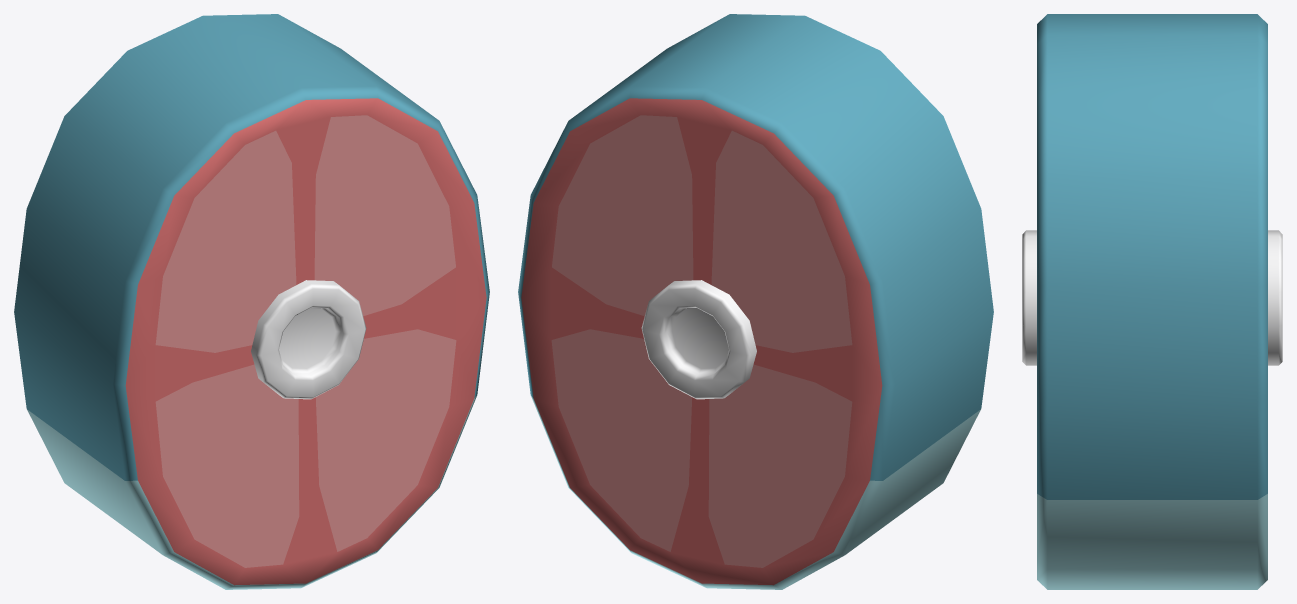
File: Sardine_2_Slice.fbx
The picture shows the model from 3 angles, left to right: view 1: azimuth 30°, elevation 25°; view 2: azimuth 150°, elevation 25°; view 3: azimuth 270°, elevation 25°; orthographic projection. The views are drawn at different scales.
Parts seen in each view (by area): view 1: Sardine_2_Slice; view 2: Sardine_2_Slice; view 3: Sardine_2_Slice.
Part boxes in pixels (x1,y1,x2,y2): Sardine_2_Slice: (14,14,489,589); Sardine_2_Slice: (518,14,993,589); Sardine_2_Slice: (1022,14,1282,589).
Bounding box in the file's own units: 3.85 × 4.88 × 2.16.
